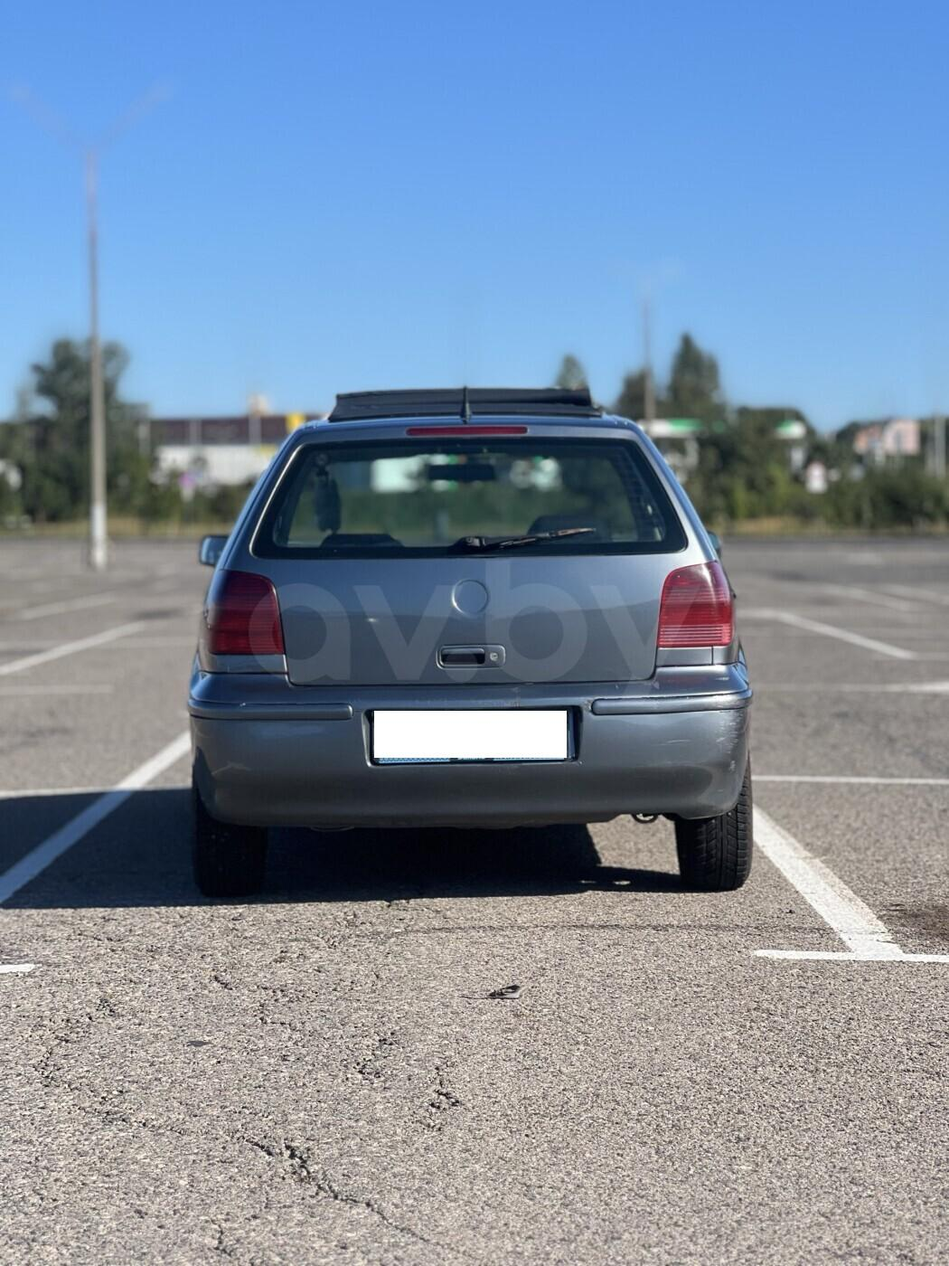Polo_2000-2002: (181, 387, 778, 919)
